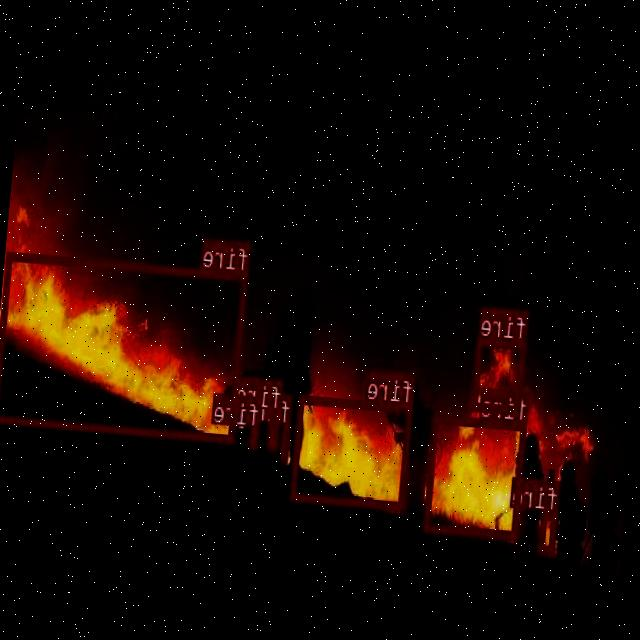fire: (0, 250, 248, 442), (290, 393, 413, 509), (424, 413, 528, 539), (472, 336, 527, 413), (539, 510, 559, 552), (270, 408, 282, 449), (282, 424, 292, 459), (250, 426, 260, 448)
